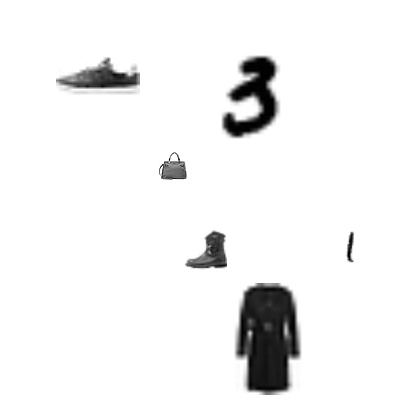0: (239, 328, 253, 342)
1: (328, 226, 370, 268)
3: (195, 41, 307, 153)
Ankle_boot: (185, 229, 227, 271)
Bag: (159, 152, 187, 180)
Coat: (212, 283, 324, 395)
Sneaker: (56, 31, 140, 115)
